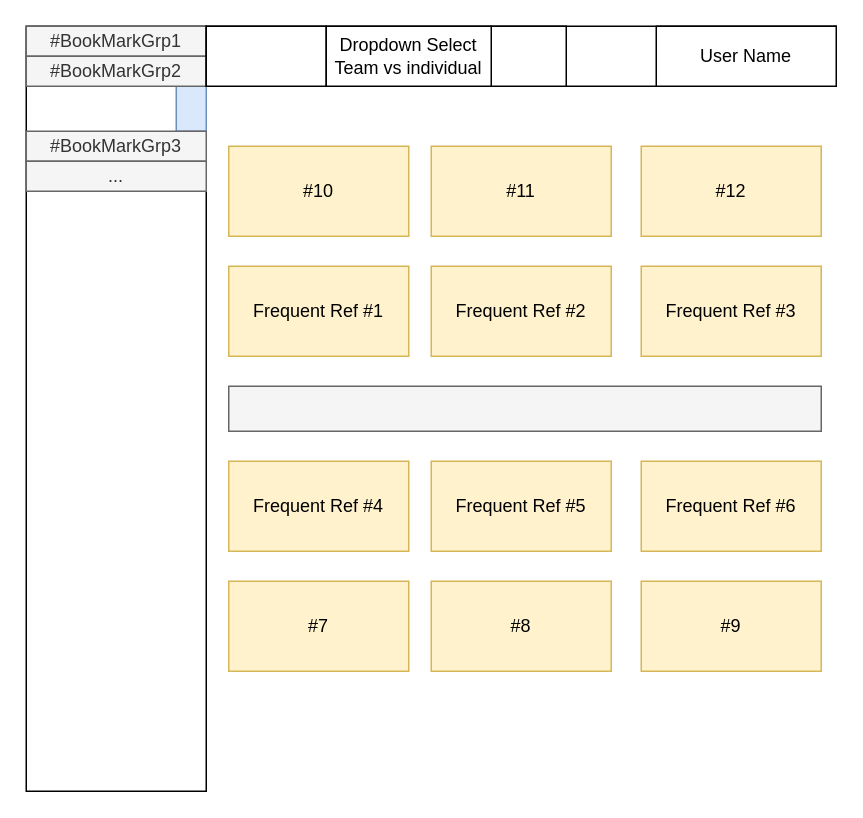
Some shapes in this 863 by 818 pixel diagram are drawn without their labels. Here are the shapes that lost their labels. From the top down, the centre of each, then its label:
At point 265,55: "Reading List toggle button".
At point 528,55: "RSS".
At point 190,108: "Scroll".
At point 524,408: "Search Bar".
